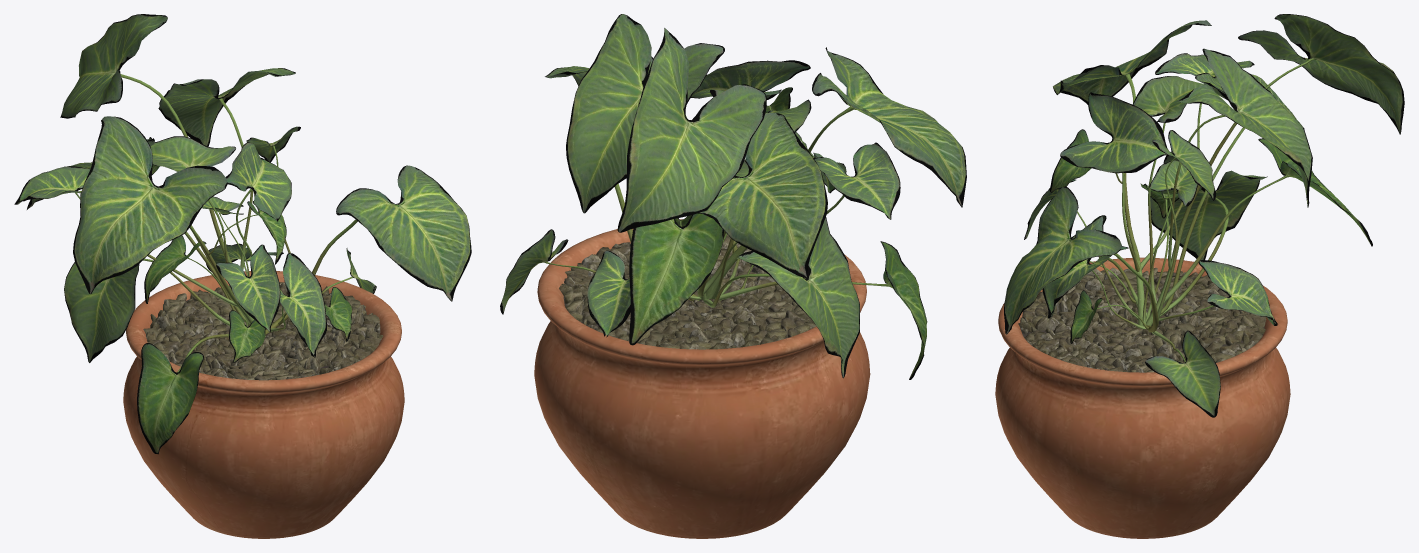
The model's file is court-plant.glb.
3 views of the same model, side by side, from view 1: azimuth 30°, elevation 25°; view 2: azimuth 150°, elevation 25°; view 3: azimuth 270°, elevation 25° (orthographic). The views are drawn at different scales.
Parts seen in each view (by area): view 1: potted_plant_02_leaves, potted_plant_02_pot, potted_plant_02_dirt; view 2: potted_plant_02_leaves, potted_plant_02_pot, potted_plant_02_dirt; view 3: potted_plant_02_leaves, potted_plant_02_pot, potted_plant_02_dirt.
Part boxes in pixels (x1,y1,x2,y2): potted_plant_02_leaves: [14, 14, 471, 454]; potted_plant_02_pot: [123, 271, 404, 538]; potted_plant_02_dirt: [143, 282, 383, 380]; potted_plant_02_leaves: [500, 14, 966, 379]; potted_plant_02_pot: [534, 219, 870, 538]; potted_plant_02_dirt: [559, 234, 816, 349]; potted_plant_02_leaves: [1004, 14, 1404, 417]; potted_plant_02_pot: [995, 257, 1290, 538]; potted_plant_02_dirt: [1018, 267, 1266, 372].
Bounding box in the file's own units: 0.7012 × 0.8412 × 0.6574.
Materials: 2 (2 with a texture image).
